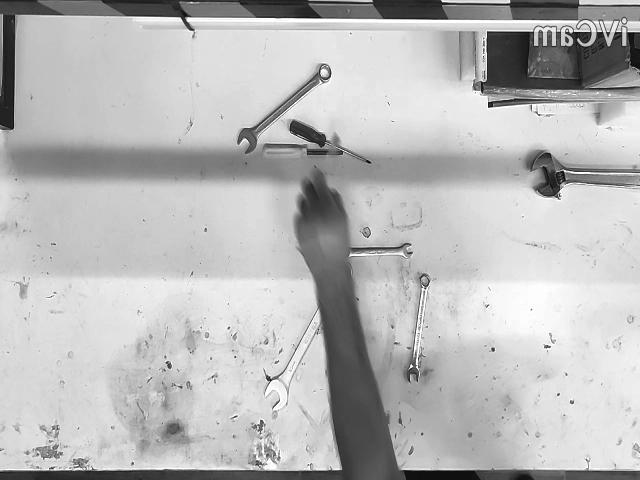Adjustable spanner: (531, 152, 640, 201)
Hand: (296, 172, 401, 478)
Screwdriver: (290, 120, 372, 165), (262, 144, 344, 160)
Wrench: (238, 65, 332, 155), (265, 308, 322, 411), (406, 273, 430, 382), (348, 243, 413, 259)
